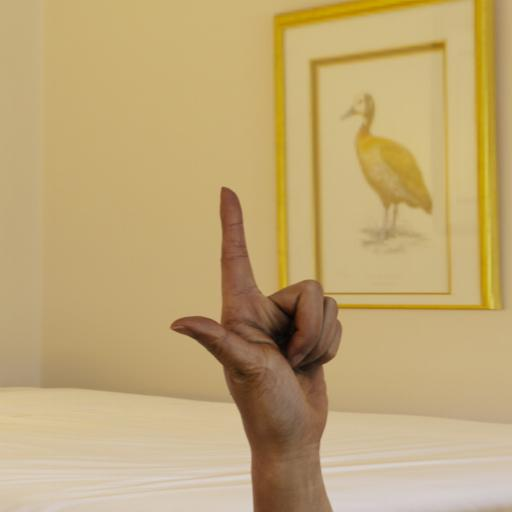L: (153, 177, 358, 512)
